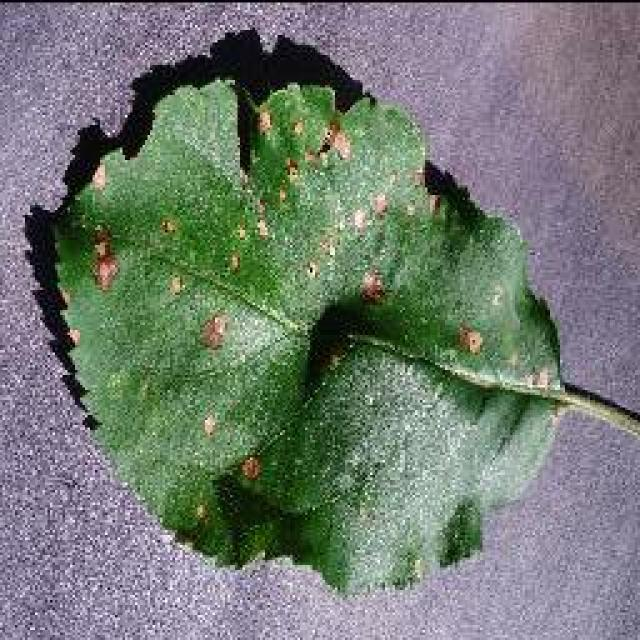Black_rot: (32, 28, 638, 598)
